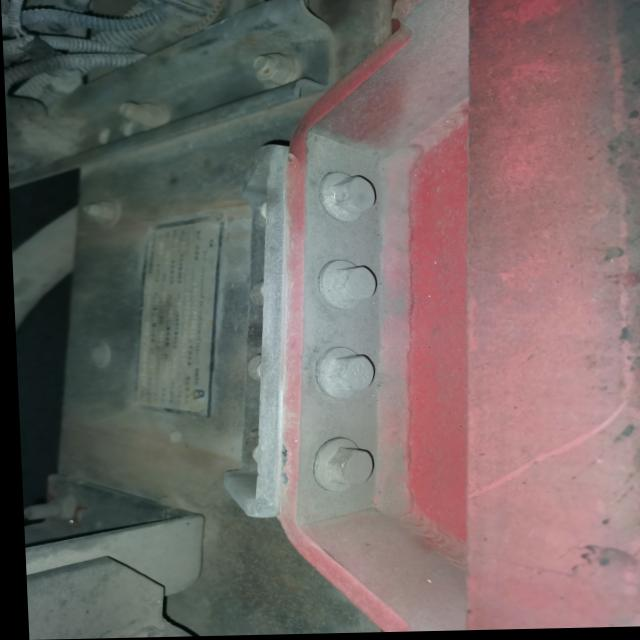Regular bolt: (323, 177, 380, 218), (316, 448, 369, 489), (321, 268, 374, 305), (322, 358, 371, 396)
